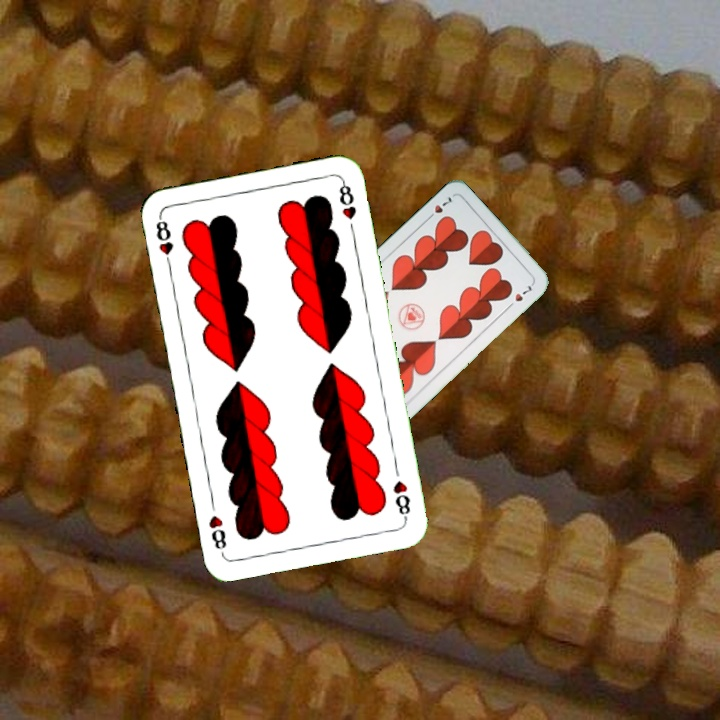H7: (422, 192, 457, 223)
H8: (152, 212, 177, 271), (389, 476, 413, 522)
